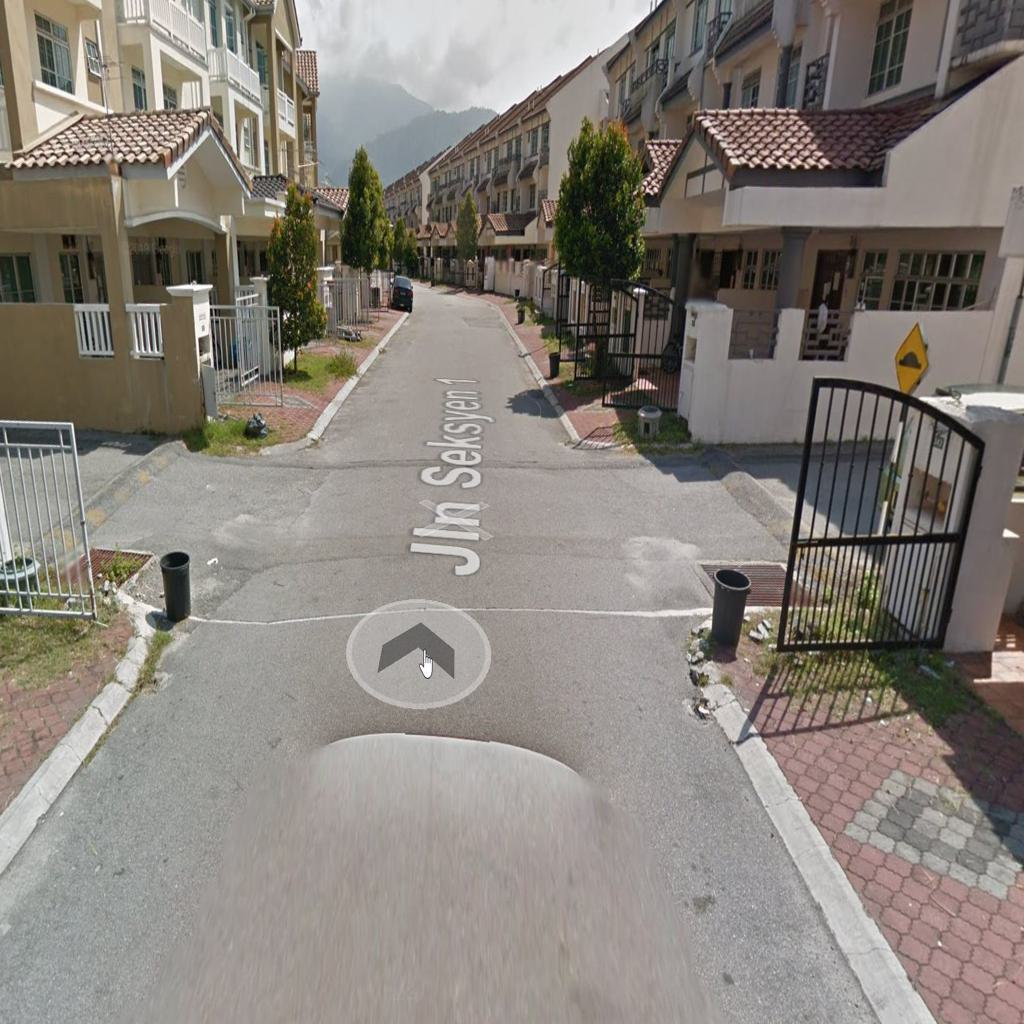Junction: (558, 401, 886, 669), (9, 385, 347, 641)
